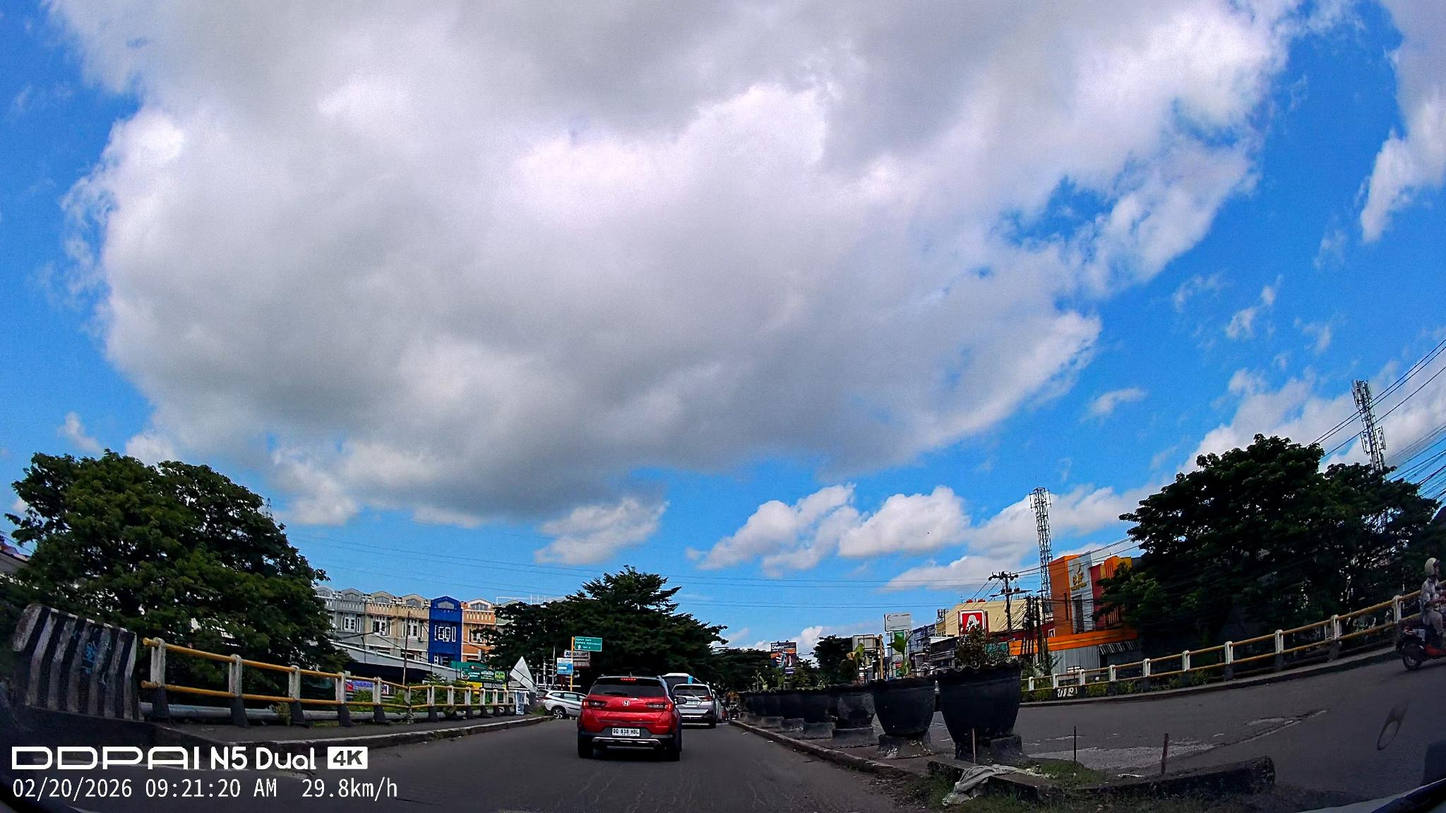rambu_teks: (575, 636, 602, 652)
